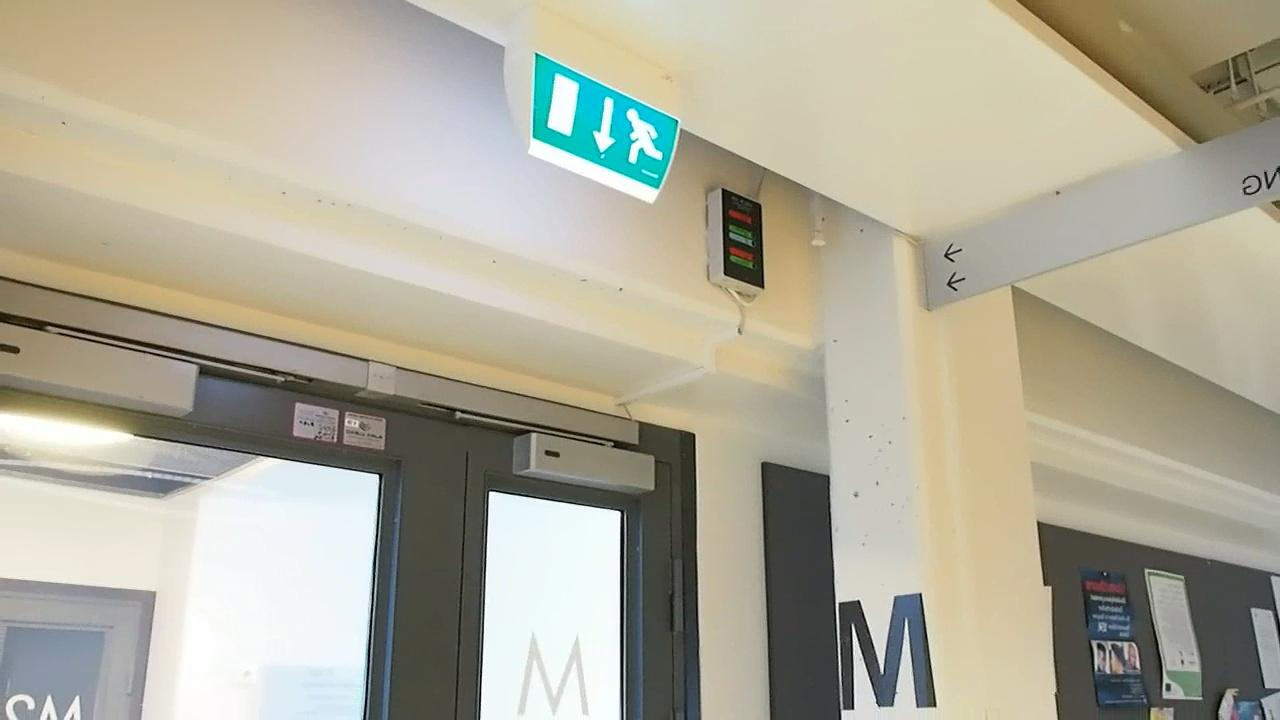exit: (529, 64, 680, 186)
